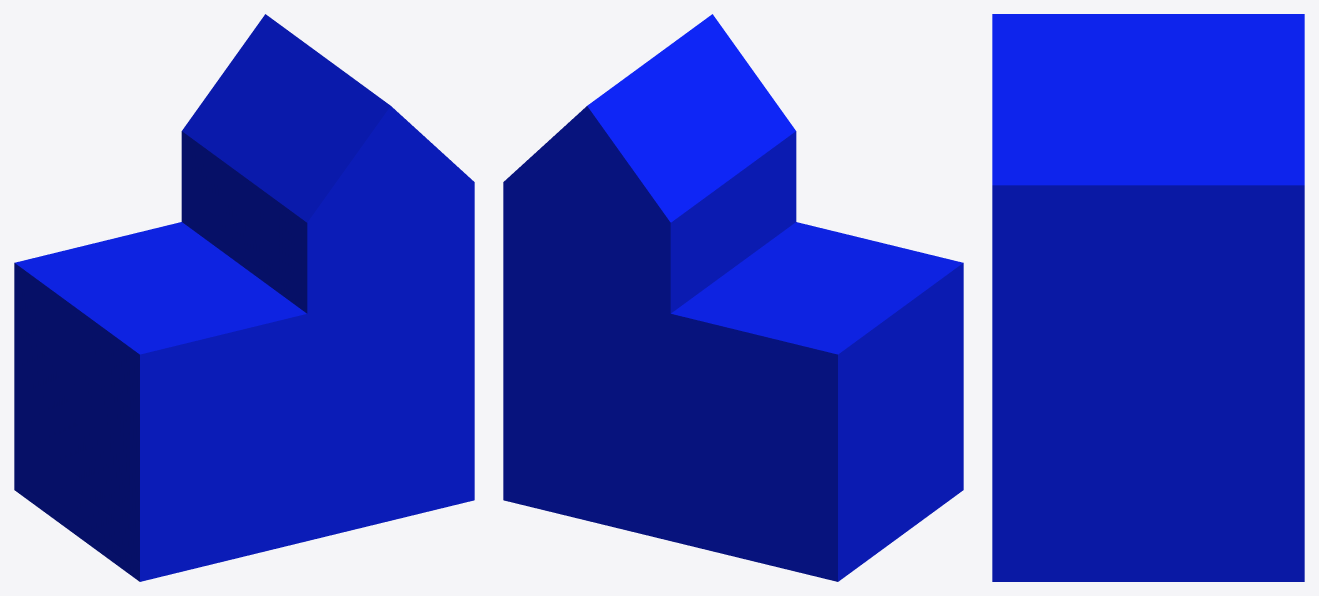
File: City_Blue.fbx
3 views of the same model, side by side, from view 1: azimuth 30°, elevation 25°; view 2: azimuth 150°, elevation 25°; view 3: azimuth 270°, elevation 25° (orthographic). The views are drawn at different scales.
Visible parts, largest first — view 1: blueCity; view 2: blueCity; view 3: blueCity.
Part boxes in pixels (left/top/right/bottom): blueCity: left=14, top=14, right=474, bottom=581; blueCity: left=503, top=14, right=963, bottom=581; blueCity: left=992, top=14, right=1304, bottom=581.
Bounding box in the file's own units: 308 × 365 × 200.
